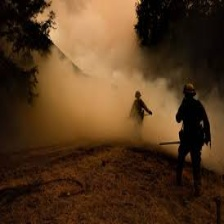smoke: (35, 67, 134, 136)
